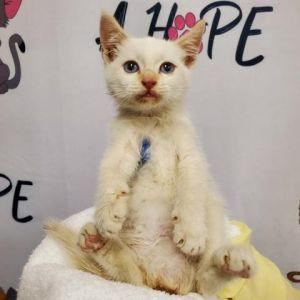siamese: (92, 6, 211, 125)
